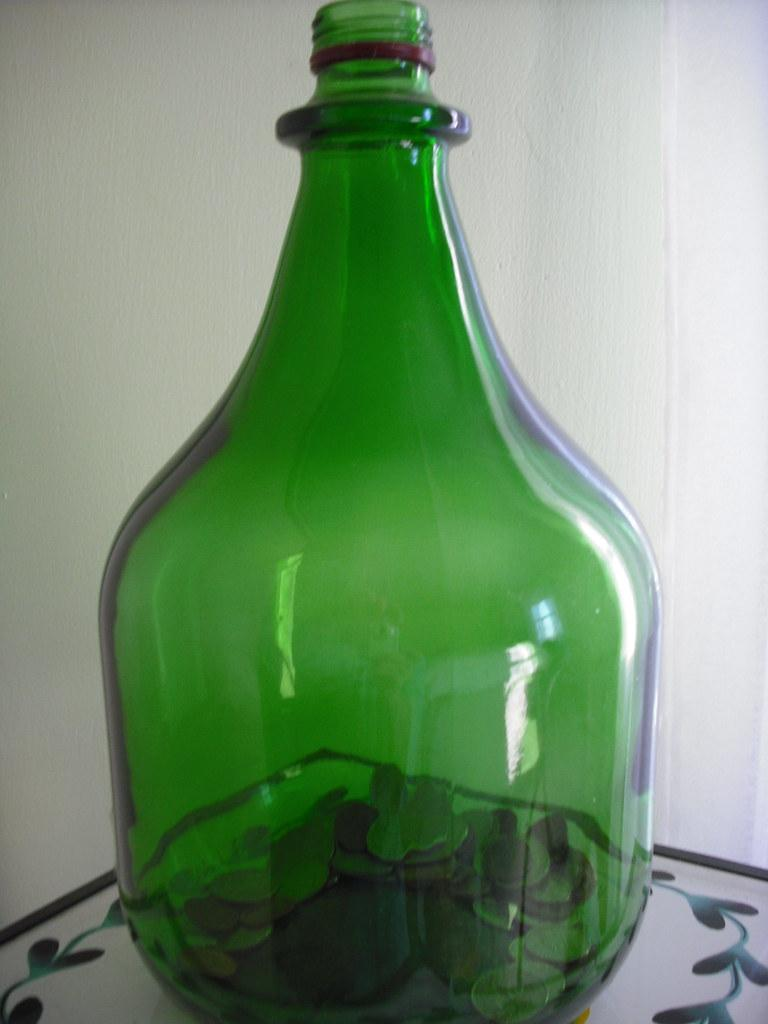bottle: (98, 1, 663, 1023)
